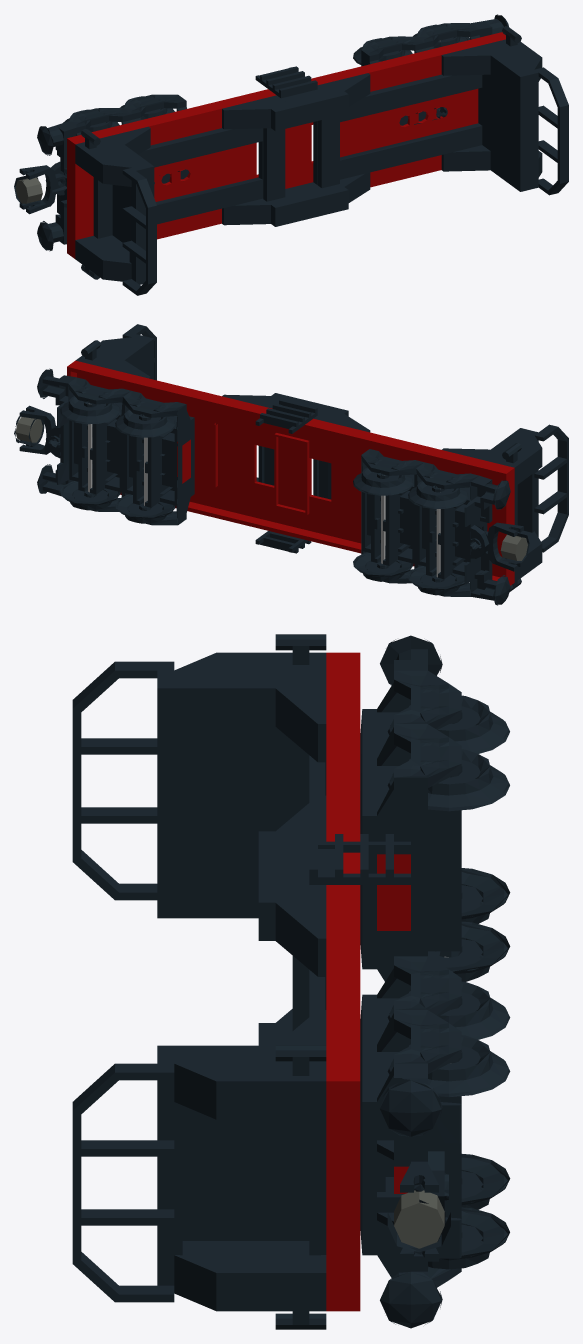
Rendered from wagon-2.glb.
The picture shows the model from 3 angles, top to bottom: view 1: azimuth 30°, elevation 25°; view 2: azimuth 150°, elevation 25°; view 3: azimuth 270°, elevation 25°; orthographic projection. The views are drawn at different scales.
Bounding box in the file's own units: 218 × 59.2 × 82.8.
